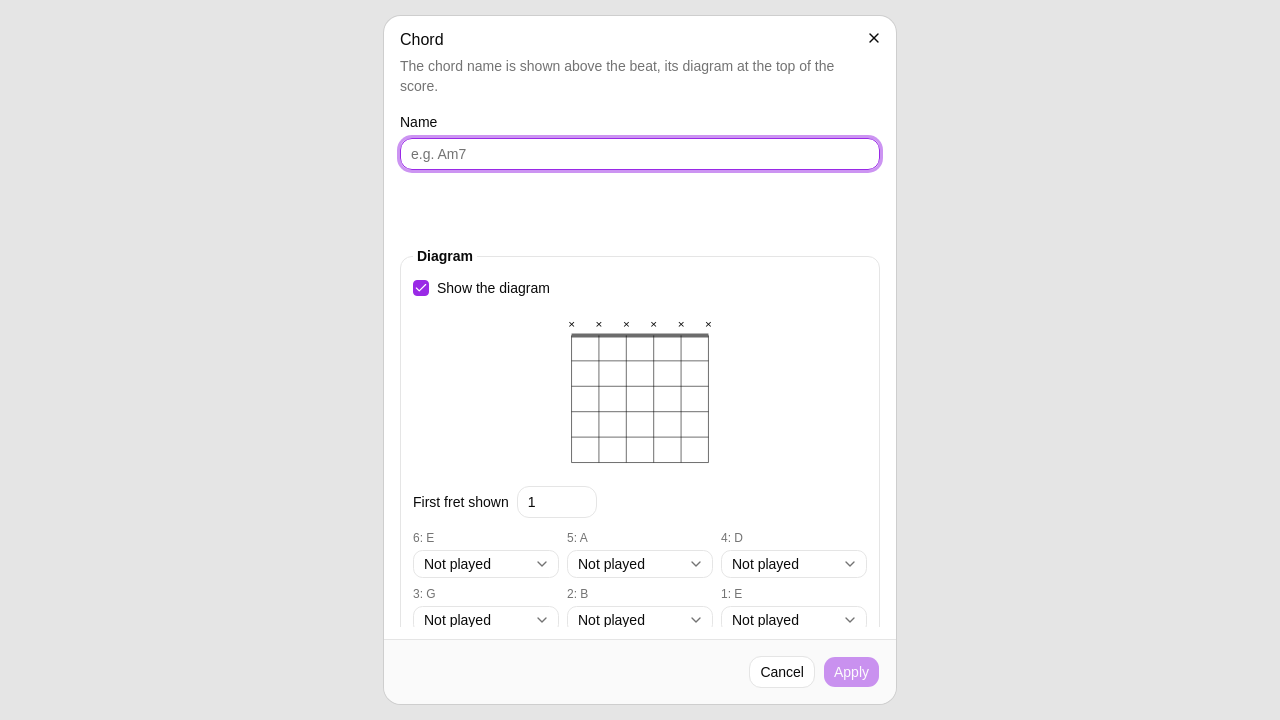
Test: ChordDialog › moves the diagram up the neck for high chords
Click the dropdown named "String 5": x=640, y=564 [567,550,713,578]
(page scrolled)
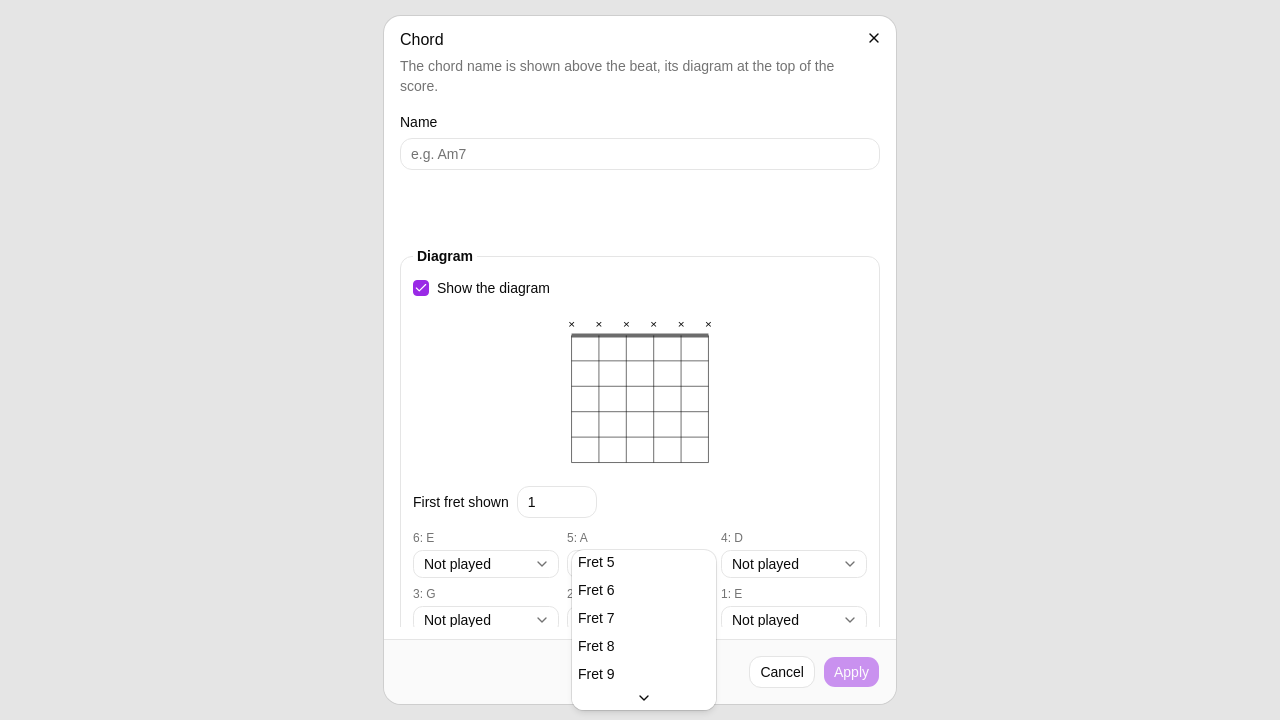
Click the option "Fret 7": x=596, y=618 [578,610,615,626]
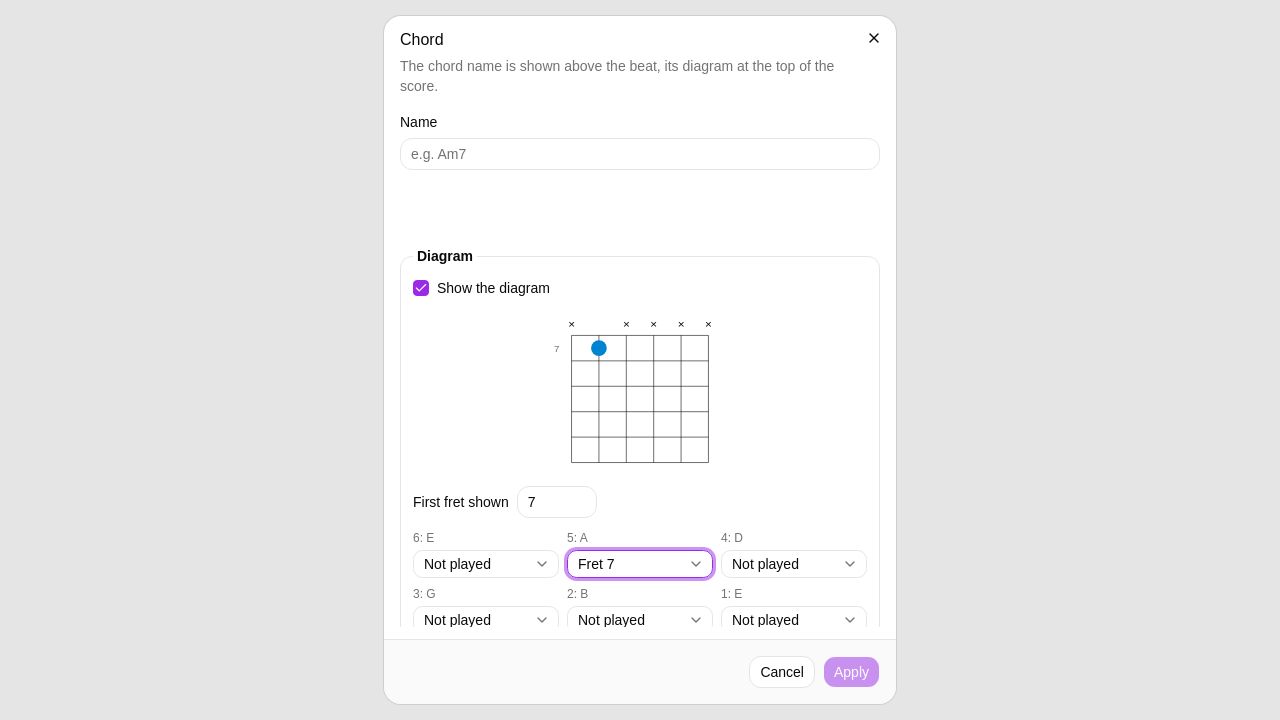
expect the number field labelled "First fret shown" holds "7": met, box [517,486,597,518]
